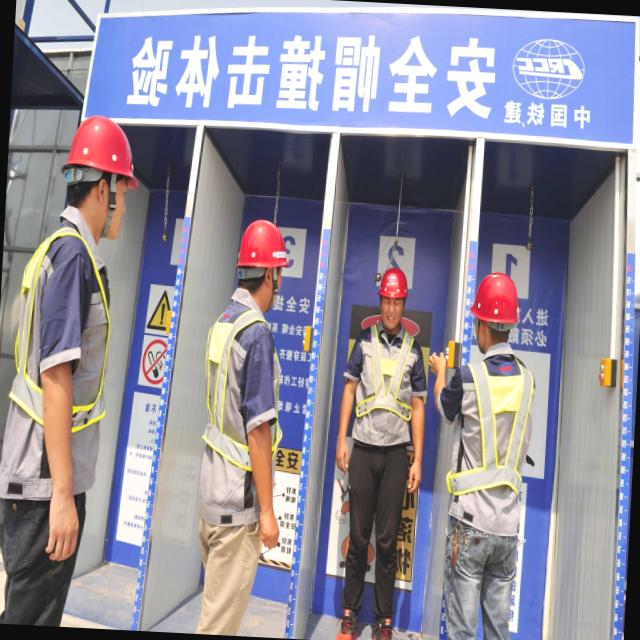helmet: (58, 114, 144, 208), (232, 212, 291, 278), (469, 266, 524, 329), (376, 264, 411, 310)
